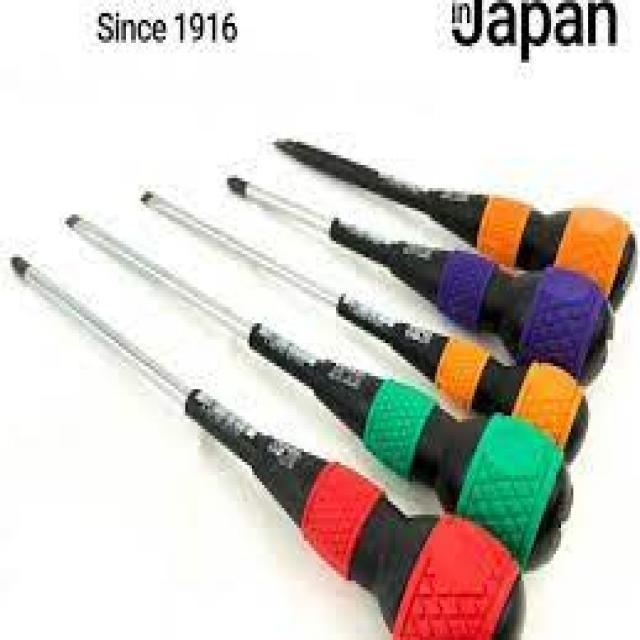screwdriver: (6, 250, 537, 640), (51, 191, 574, 581), (138, 178, 600, 462), (223, 160, 614, 388), (257, 136, 640, 308)
